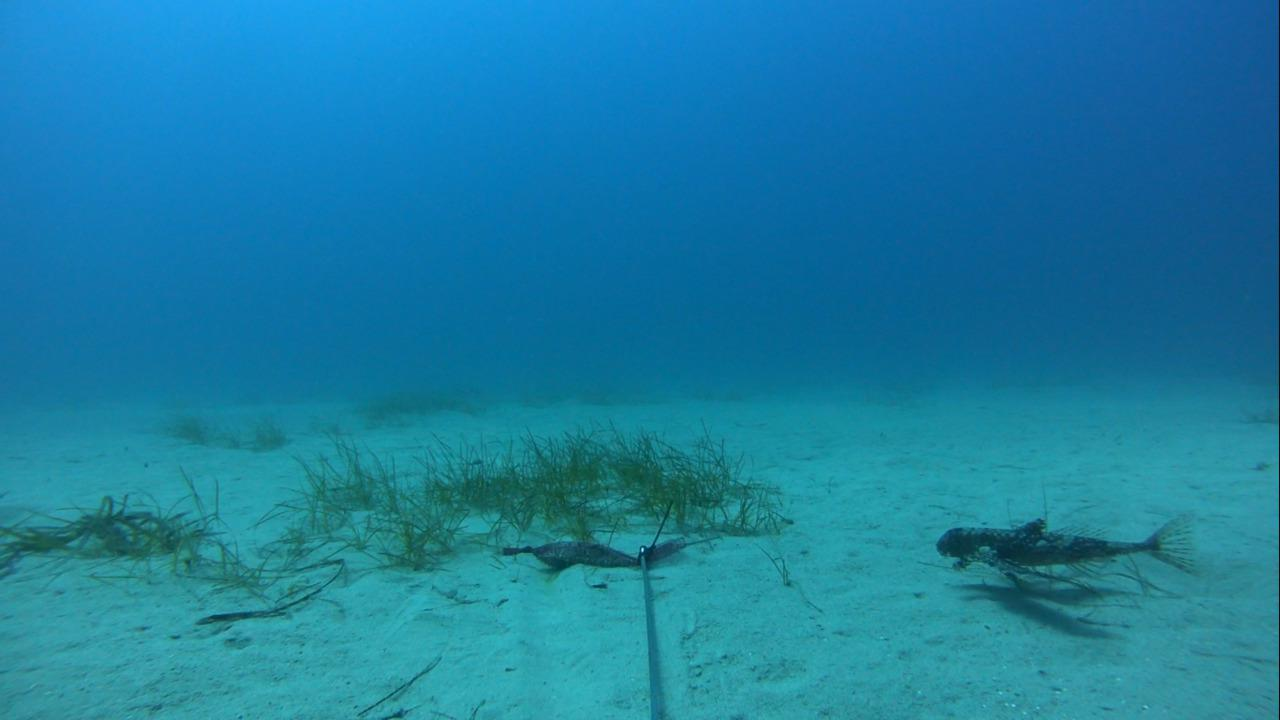dactylopterus: (930, 502, 1214, 599)
